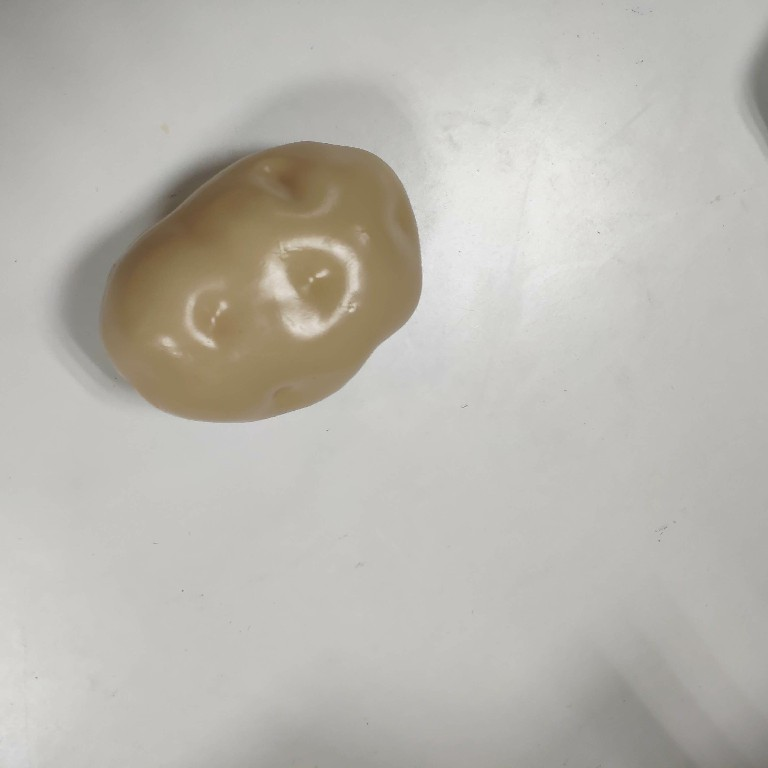fruit_potato: (96, 133, 425, 433)
